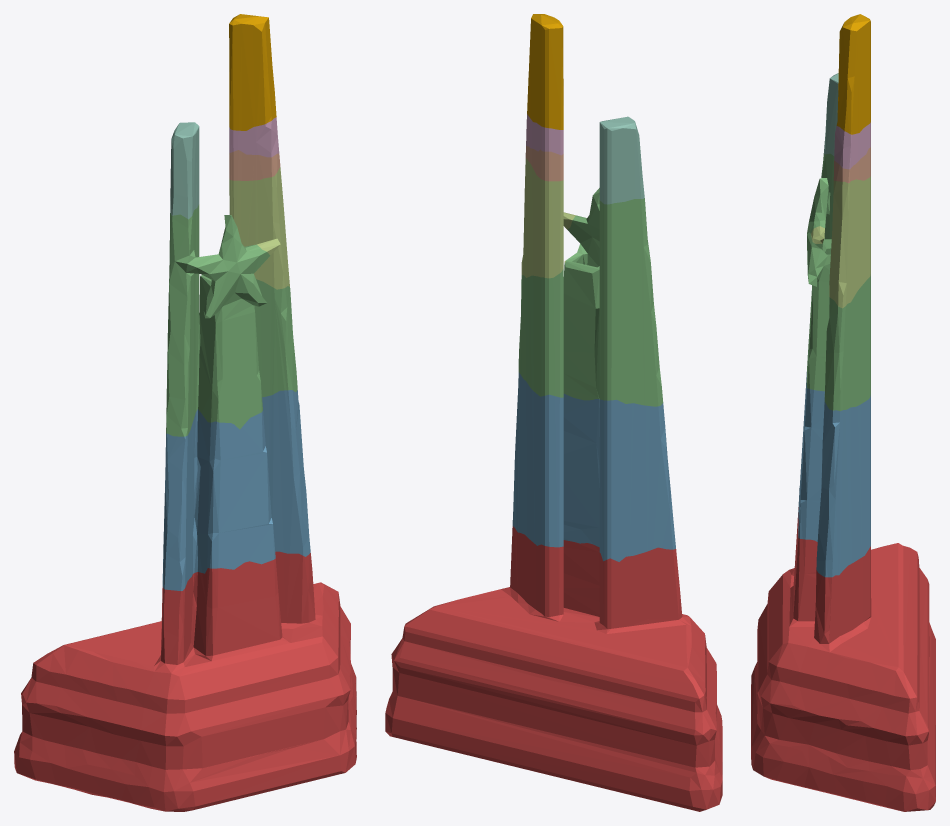
Rendered from fractured_71_8pcs.glb.
The picture shows the model from 3 angles, left to right: view 1: azimuth 30°, elevation 25°; view 2: azimuth 150°, elevation 25°; view 3: azimuth 270°, elevation 25°; orthographic projection.
Parts seen in each view (by area): view 1: piece_1.obj, piece_2.obj, piece_3.obj, piece_0.obj, piece_5.obj, piece_4.obj, piece_6.obj, piece_7.obj; view 2: piece_1.obj, piece_2.obj, piece_3.obj, piece_5.obj, piece_0.obj, piece_4.obj, piece_6.obj, piece_7.obj; view 3: piece_1.obj, piece_2.obj, piece_3.obj, piece_5.obj, piece_0.obj, piece_6.obj, piece_4.obj, piece_7.obj.
Part boxes in pixels (x1=…): piece_1.obj: x1=14, y1=551, x2=356, y2=811; piece_2.obj: x1=162, y1=390, x2=310, y2=590; piece_3.obj: x1=166, y1=204, x2=297, y2=436; piece_0.obj: x1=229, y1=14, x2=276, y2=130; piece_5.obj: x1=229, y1=167, x2=289, y2=289; piece_4.obj: x1=170, y1=122, x2=199, y2=219; piece_6.obj: x1=229, y1=117, x2=279, y2=157; piece_7.obj: x1=229, y1=150, x2=280, y2=180; piece_1.obj: x1=385, y1=526, x2=722, y2=811; piece_2.obj: x1=512, y1=372, x2=675, y2=561; piece_3.obj: x1=518, y1=188, x2=663, y2=406; piece_5.obj: x1=521, y1=158, x2=576, y2=278; piece_0.obj: x1=527, y1=14, x2=563, y2=129; piece_4.obj: x1=599, y1=116, x2=644, y2=204; piece_6.obj: x1=526, y1=114, x2=563, y2=155; piece_7.obj: x1=525, y1=146, x2=563, y2=181; piece_1.obj: x1=751, y1=507, x2=935, y2=811; piece_2.obj: x1=798, y1=372, x2=870, y2=577; piece_3.obj: x1=806, y1=153, x2=870, y2=411; piece_5.obj: x1=811, y1=176, x2=870, y2=308; piece_0.obj: x1=836, y1=14, x2=870, y2=134; piece_6.obj: x1=834, y1=122, x2=870, y2=169; piece_4.obj: x1=824, y1=73, x2=838, y2=155; piece_7.obj: x1=833, y1=147, x2=870, y2=183.
Bounding box in the file's own units: 0.4818 × 1 × 0.2292.
